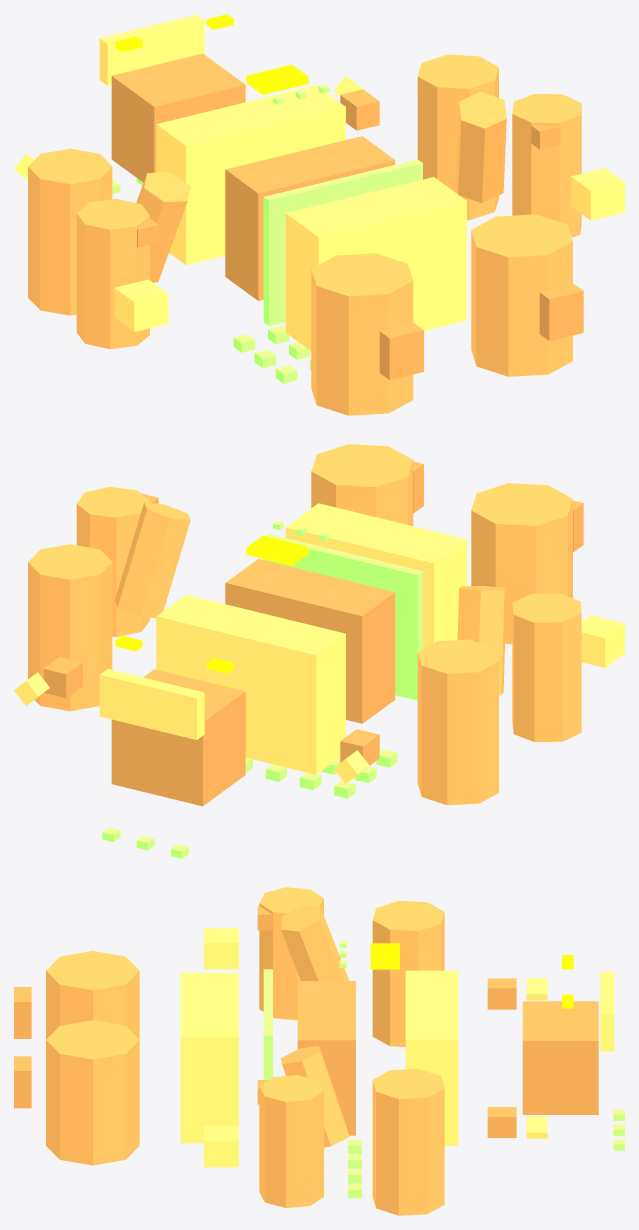
The model's file is overfitting_ogre.glb.
3 views of the same model, one above another, from view 1: azimuth 30°, elevation 25°; view 2: azimuth 150°, elevation 25°; view 3: azimuth 270°, elevation 25° (orthographic). The views are drawn at different scales.
Parts seen in each view (by area): view 1: OverfittingOgre; view 2: OverfittingOgre; view 3: OverfittingOgre.
Boxes of the visible parts, x1,y1,x2,y2 form: OverfittingOgre: [14, 14, 624, 415]; OverfittingOgre: [14, 444, 624, 858]; OverfittingOgre: [14, 887, 624, 1215].
Size of the model in its own units: 2.18 by 1.04 by 2.61.
